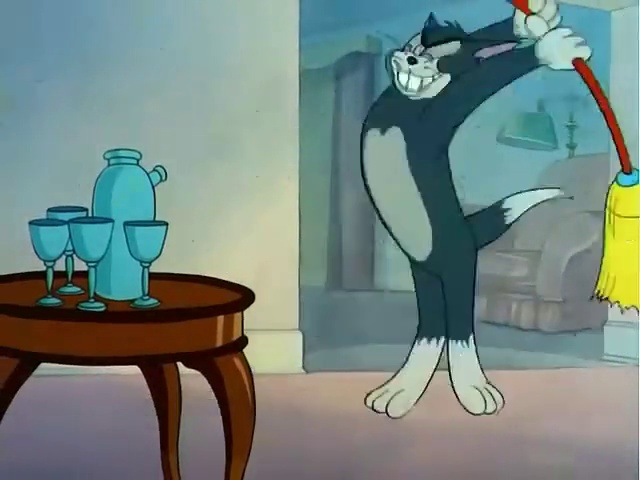tom: (337, 3, 603, 420)
